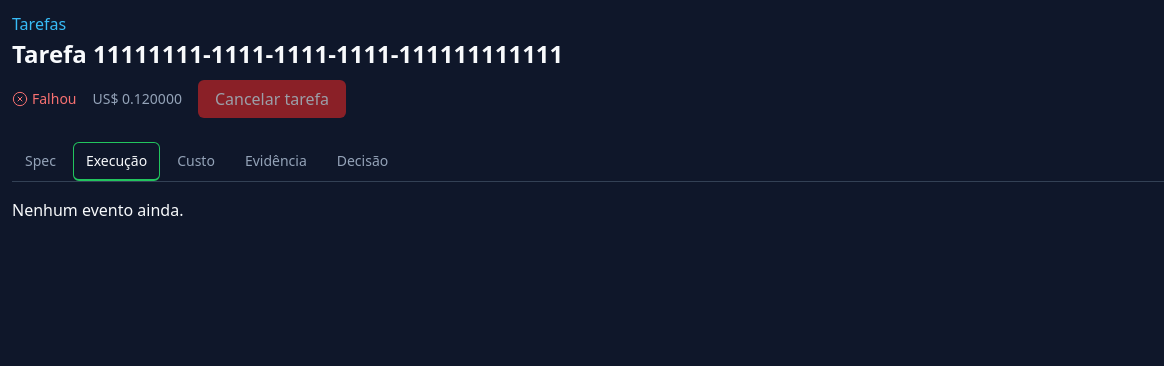
Test: TaskDetail › keeps the coder's summary and the reviewer's verdict apart in the Decisão tab
expect the text "Falhou" is shown: met, box [12,89,76,109]
Click the tab "Decisão": point(363, 162) [324,142,401,181]
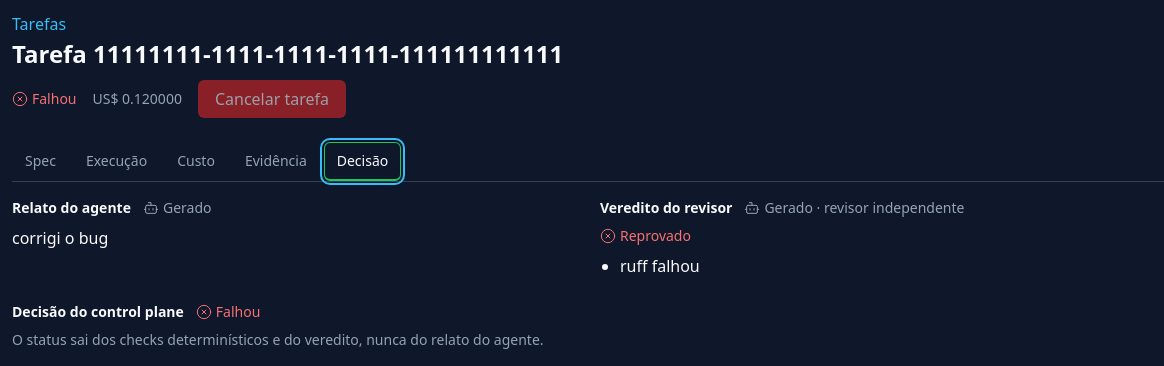
expect the text "corrigi o bug" is shown: met, box [12,227,108,249]
expect the text "Gerado" is shown: met, box [143,198,211,218]
expect the text "Gerado · revisor independente" is shown: met, box [744,198,964,218]
